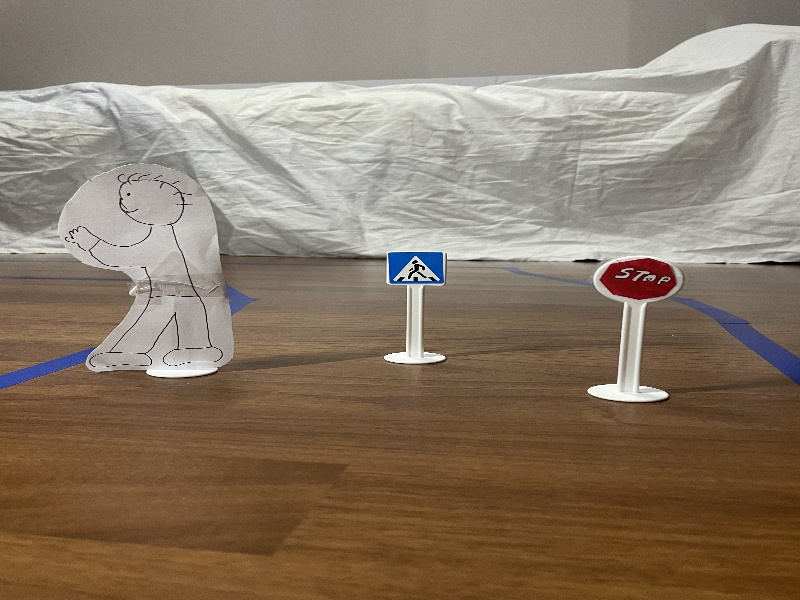persoana: (50, 160, 250, 381)
stop: (587, 245, 690, 311)
trecere_pietoni: (378, 243, 456, 293)
